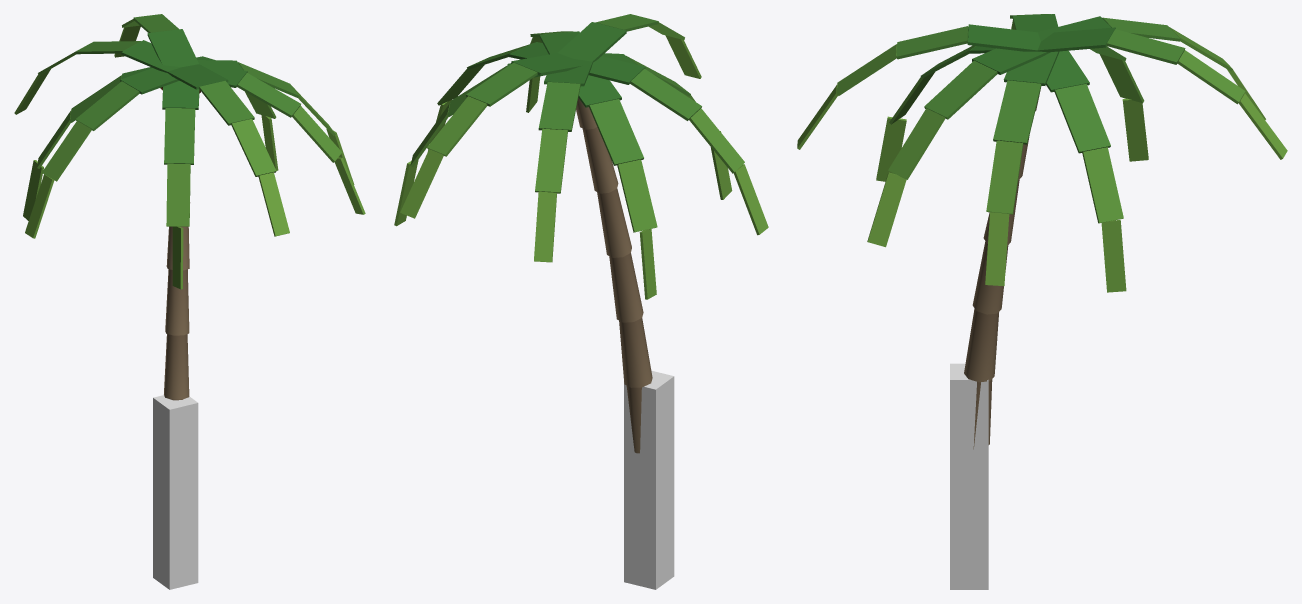
The model's file is cocotero.glb.
The picture shows the model from 3 angles, left to right: view 1: azimuth 30°, elevation 25°; view 2: azimuth 150°, elevation 25°; view 3: azimuth 270°, elevation 25°; orthographic projection. The views are drawn at different scales.
Parts seen in each view (by area): view 1: cocotero_Malla, COL_0; view 2: cocotero_Malla, COL_0; view 3: cocotero_Malla, COL_0.
Part boxes in pixels (x1,y1,x2,y2): cocotero_Malla: [14, 14, 365, 400]; COL_0: [153, 395, 198, 589]; cocotero_Malla: [394, 14, 768, 453]; COL_0: [624, 370, 674, 589]; cocotero_Malla: [797, 14, 1287, 449]; COL_0: [950, 363, 988, 589].
Size of the model in its own units: 5.41 by 8.21 by 6.35.
